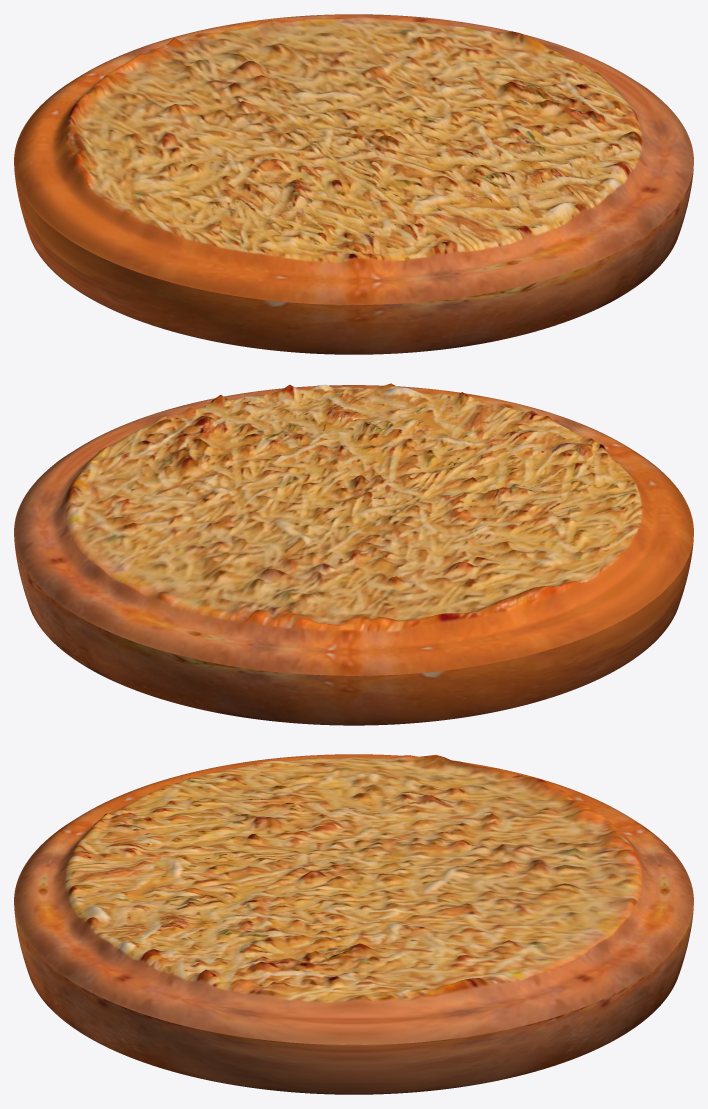
The model's file is strogonoff-pollo.glb.
3 views of the same model, one above another, from view 1: azimuth 30°, elevation 25°; view 2: azimuth 150°, elevation 25°; view 3: azimuth 270°, elevation 25° (orthographic).
Visible parts, largest first — view 1: Strogonoff de Pollo; view 2: Strogonoff de Pollo; view 3: Strogonoff de Pollo.
Boxes of the visible parts, bbox=[...] form: Strogonoff de Pollo: bbox=[14, 14, 693, 354]; Strogonoff de Pollo: bbox=[14, 383, 693, 725]; Strogonoff de Pollo: bbox=[14, 754, 693, 1094].
Size of the model in its own units: 0.36 by 0.0536 by 0.36.
Materials: 2 (2 with a texture image).
